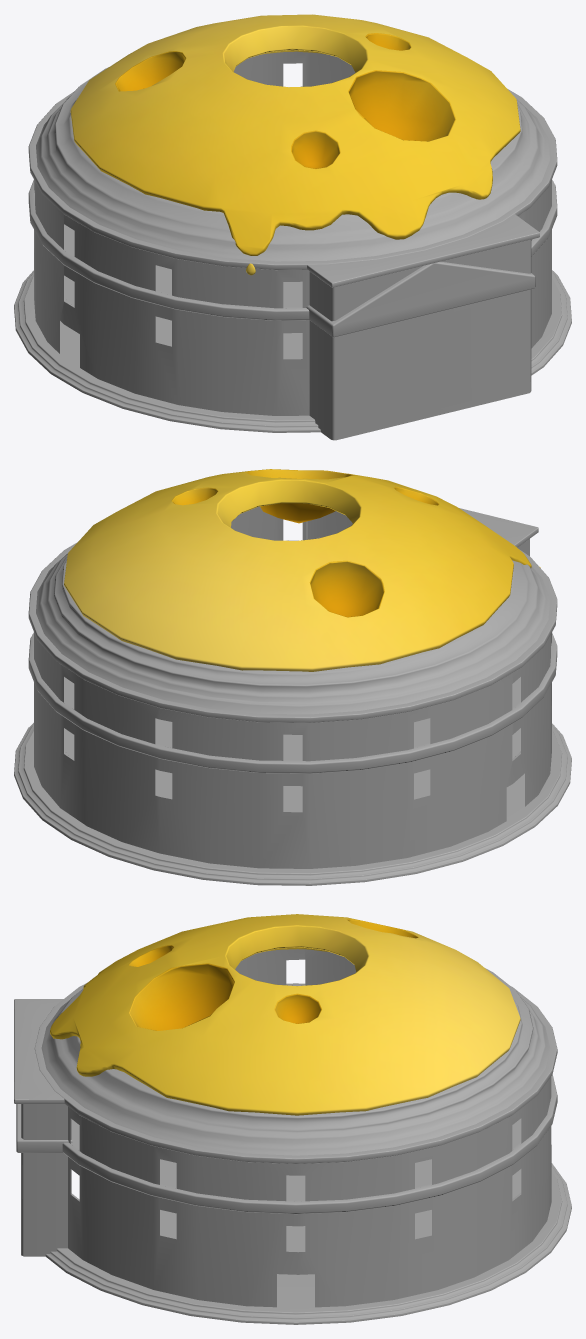
Rendered from mod_sc_roma_001_ar09_stru_001.fbx.
3 renders of one model, top to bottom at view 1: azimuth 30°, elevation 25°; view 2: azimuth 150°, elevation 25°; view 3: azimuth 270°, elevation 25°, orthographic.
Parts seen in each view (by area): view 1: mod_sc_roma_001_ar09_stru_001; view 2: mod_sc_roma_001_ar09_stru_001; view 3: mod_sc_roma_001_ar09_stru_001.
Boxes of the visible parts, bbox=[...] form: mod_sc_roma_001_ar09_stru_001: bbox=[14, 14, 571, 440]; mod_sc_roma_001_ar09_stru_001: bbox=[14, 469, 571, 885]; mod_sc_roma_001_ar09_stru_001: bbox=[14, 914, 571, 1324].
Bounding box in the file's own units: 5819 × 2957 × 5881.
2 materials, 1 textured.
